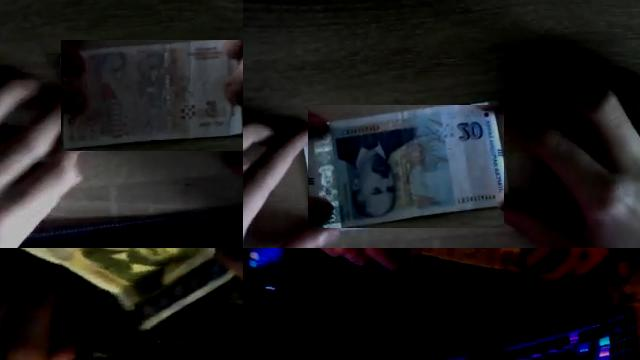20leva: (308, 105, 504, 228)
50leva: (414, 248, 526, 270)
5leva: (61, 40, 243, 151)
